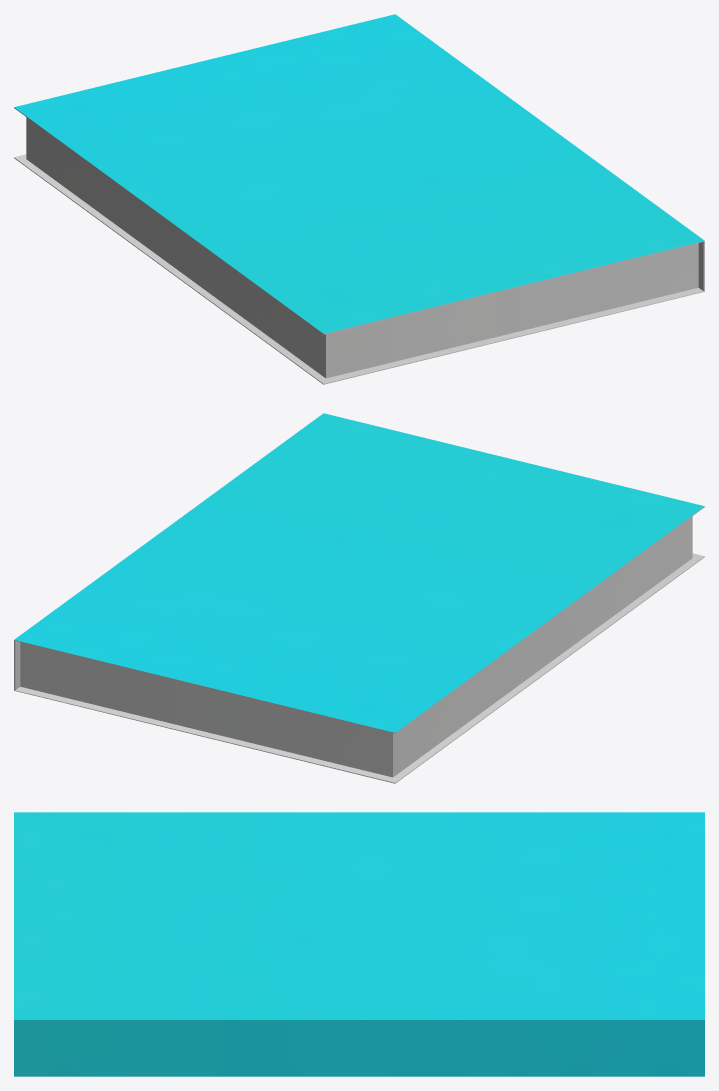
File: Book_7.fbx
The picture shows the model from 3 angles, top to bottom: view 1: azimuth 30°, elevation 25°; view 2: azimuth 150°, elevation 25°; view 3: azimuth 270°, elevation 25°; orthographic projection. The views are drawn at different scales.
Visible parts, largest first — view 1: Book 7; view 2: Book 7; view 3: Book 7.
Part boxes in pixels (box(x1,y1,x2,y2)): Book 7: box(14, 14, 704, 384); Book 7: box(14, 413, 704, 783); Book 7: box(14, 812, 704, 1076).
Size of the model in its own units: 21.61 by 2.75 by 30.4.
